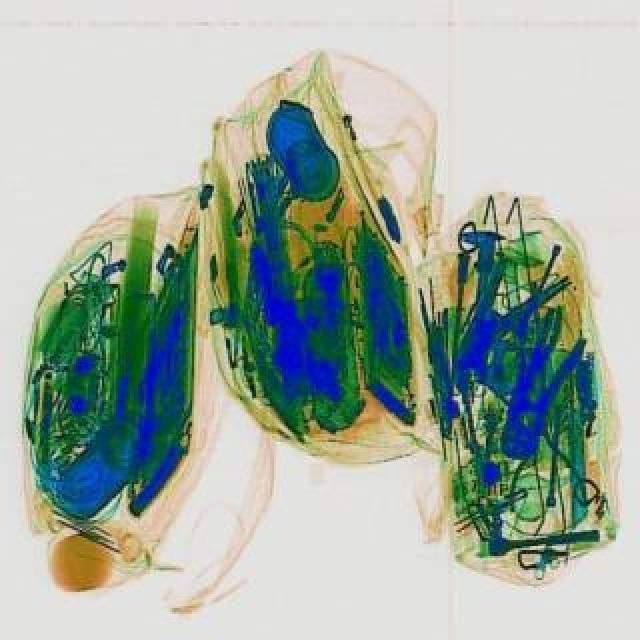wrench: (480, 318, 592, 466), (506, 294, 570, 388)
